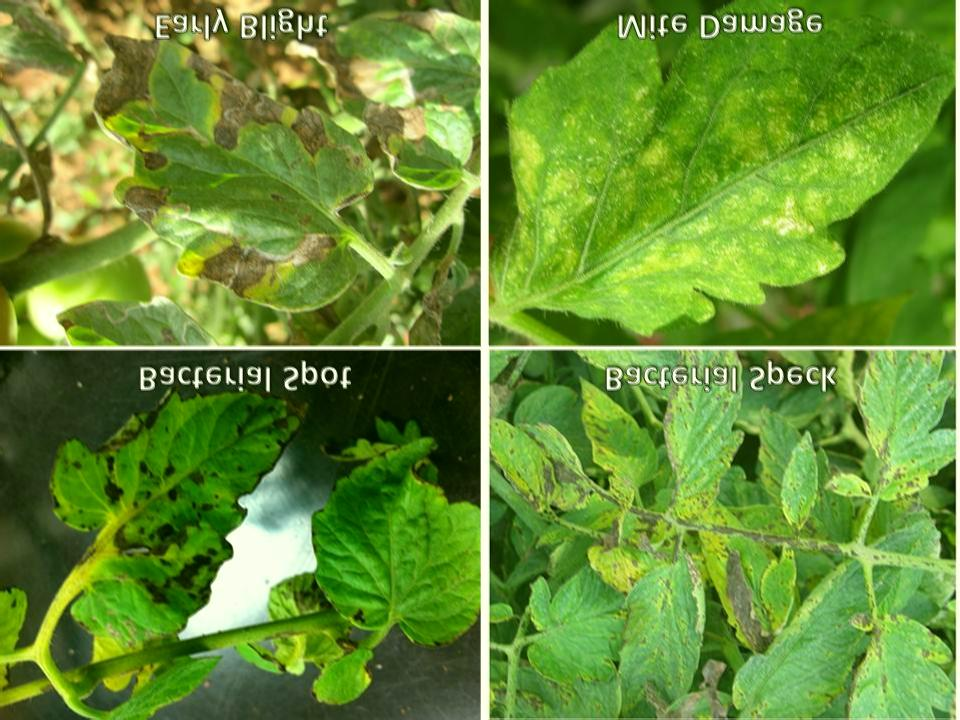Tomato Early blight leaf: (61, 40, 390, 318), (29, 369, 311, 647), (301, 395, 480, 659), (822, 353, 952, 520), (505, 563, 649, 696), (596, 537, 712, 701), (653, 353, 737, 534), (576, 359, 659, 526), (500, 401, 595, 514), (749, 537, 802, 644)
